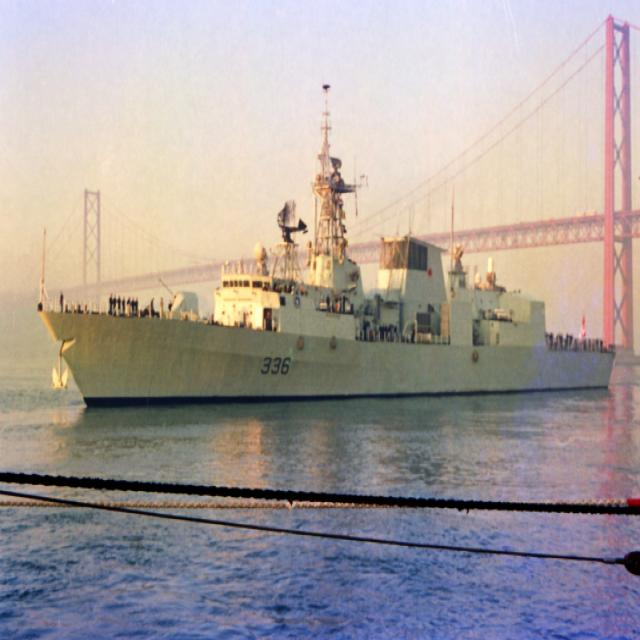Fragata: (40, 66, 619, 416)
